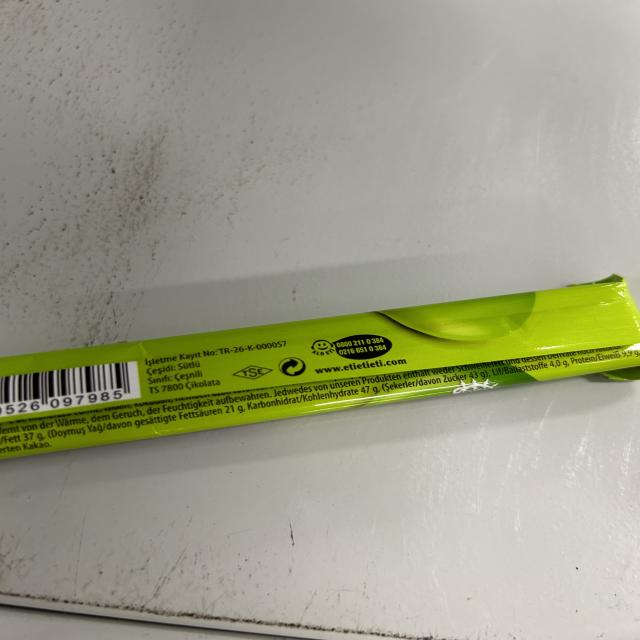object_name: (10, 274, 640, 424)
